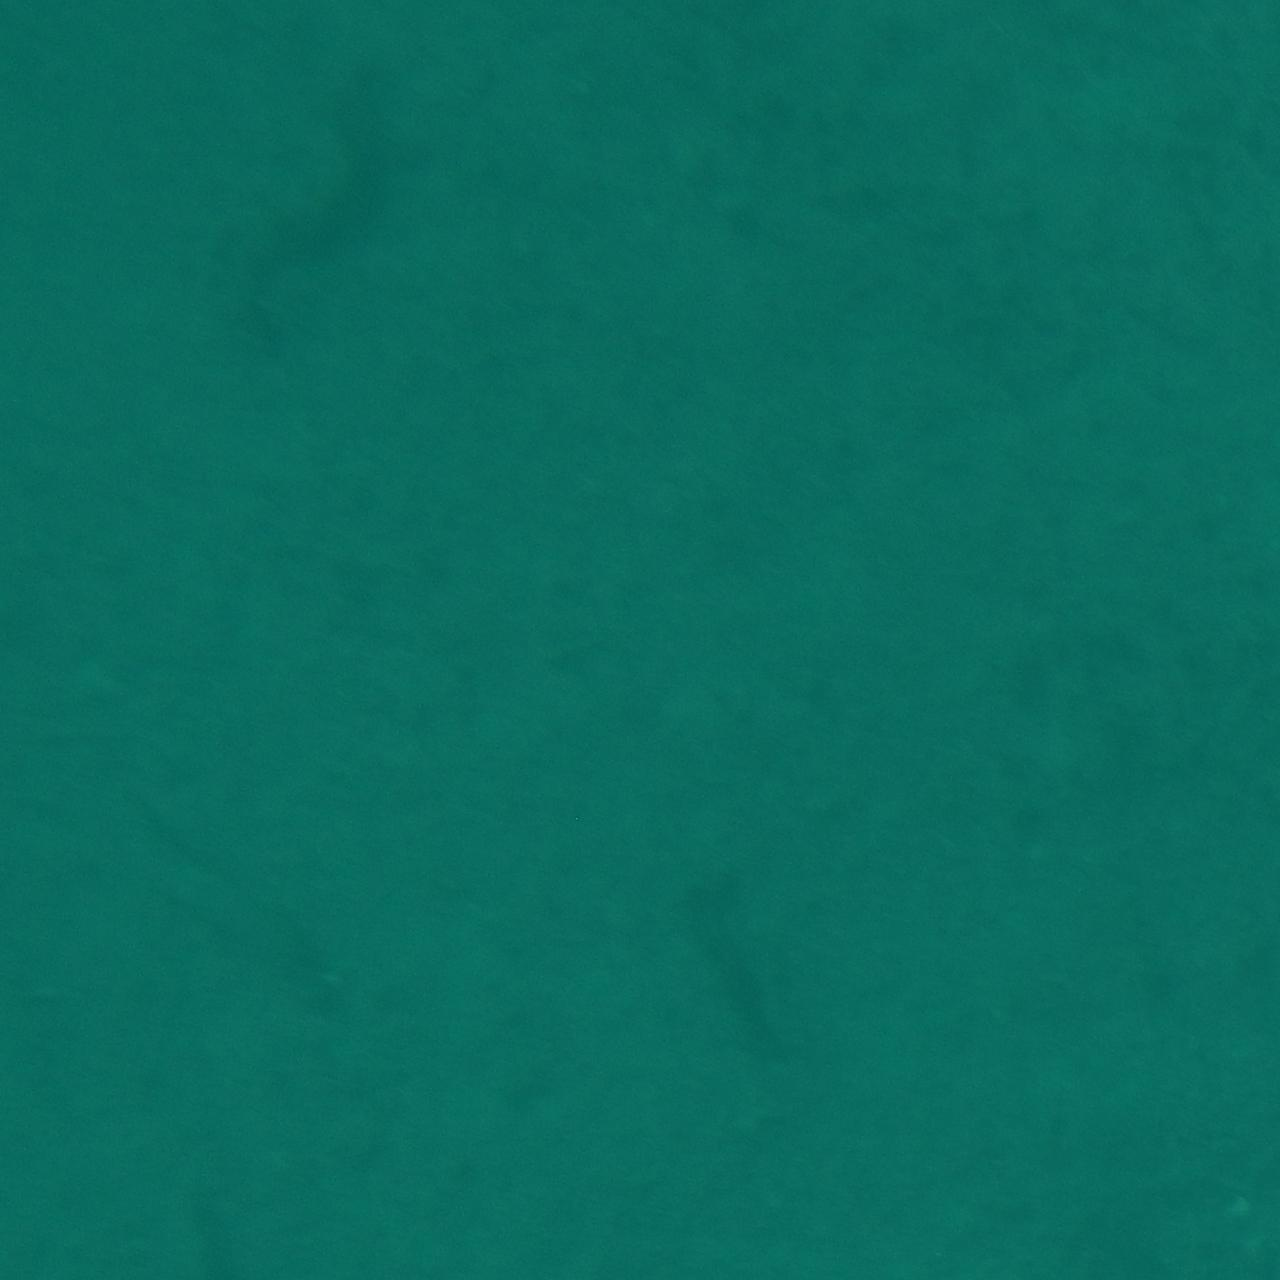Holothuria tubulosa: (217, 0, 406, 326)
